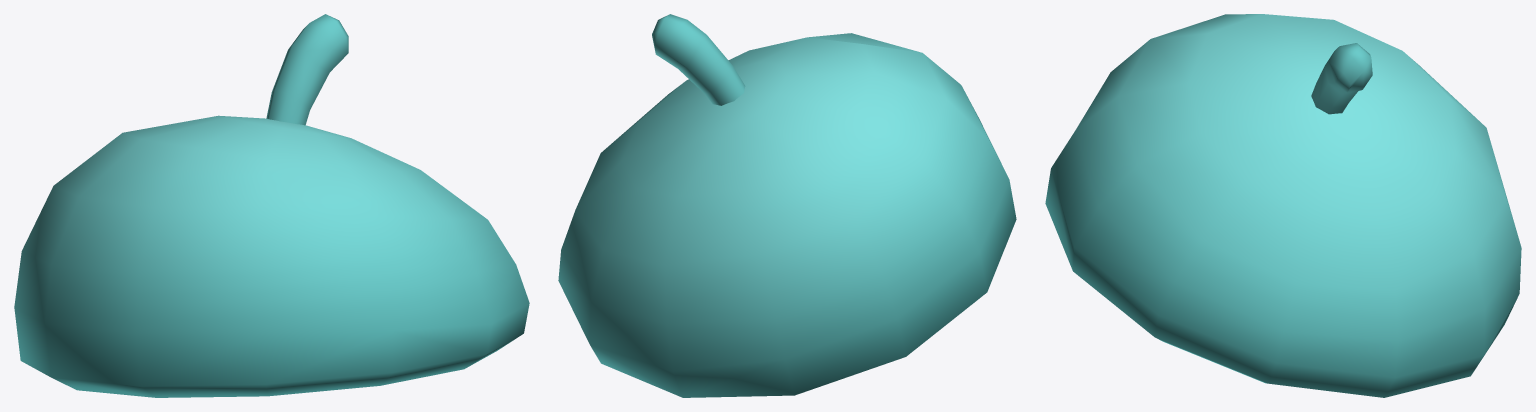
Rendered from Headgear_8.fbx.
3 renders of one model, left to right at view 1: azimuth 30°, elevation 25°; view 2: azimuth 150°, elevation 25°; view 3: azimuth 270°, elevation 25°, orthographic. The views are drawn at different scales.
Visible parts, largest first — view 1: Headgear_8; view 2: Headgear_8; view 3: Headgear_8.
Part boxes in pixels (x1,y1,x2,y2): Headgear_8: (14,14,529,397); Headgear_8: (558,14,1016,397); Headgear_8: (1045,14,1521,397).
Bounding box in the file's own units: 87.72 × 65.87 × 86.11.
